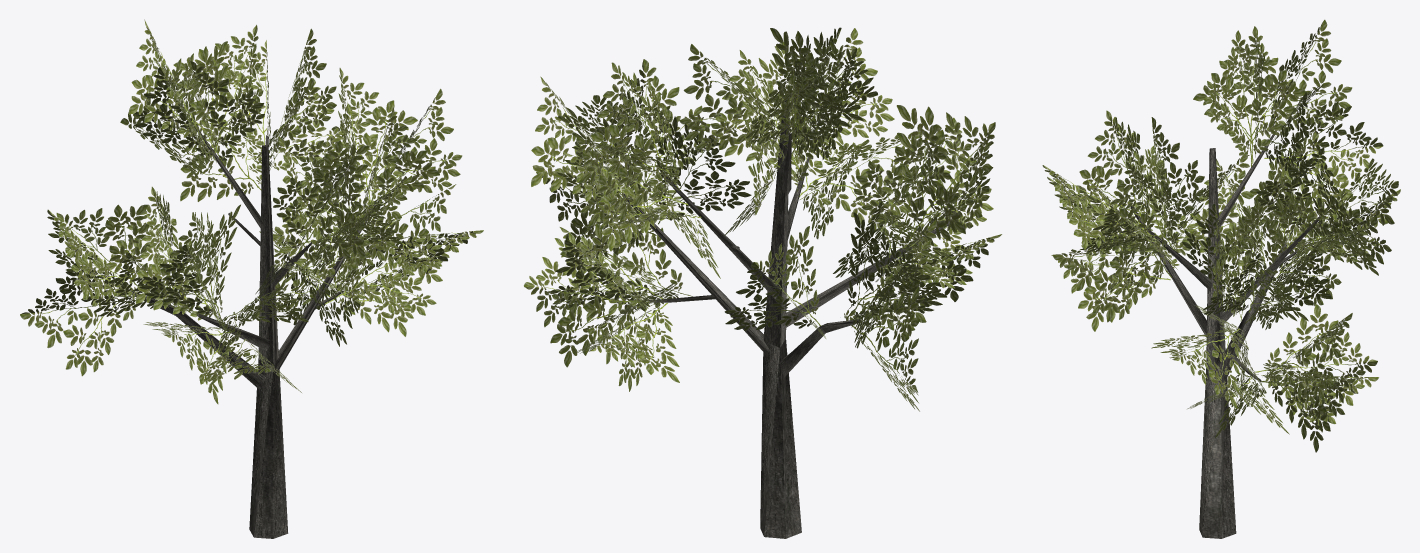
Rendered from Tree-B-04.fbx.
3 views of the same model, side by side, from view 1: azimuth 30°, elevation 25°; view 2: azimuth 150°, elevation 25°; view 3: azimuth 270°, elevation 25° (orthographic). The views are drawn at different scales.
Visible parts, largest first — view 1: Tree-B-04; view 2: Tree-B-04; view 3: Tree-B-04.
Boxes of the visible parts, x1,y1,x2,y2 form: Tree-B-04: (20, 19, 483, 538); Tree-B-04: (523, 27, 1002, 538); Tree-B-04: (1042, 19, 1400, 538).
Size of the model in its own units: 1363 by 1608 by 1106.
